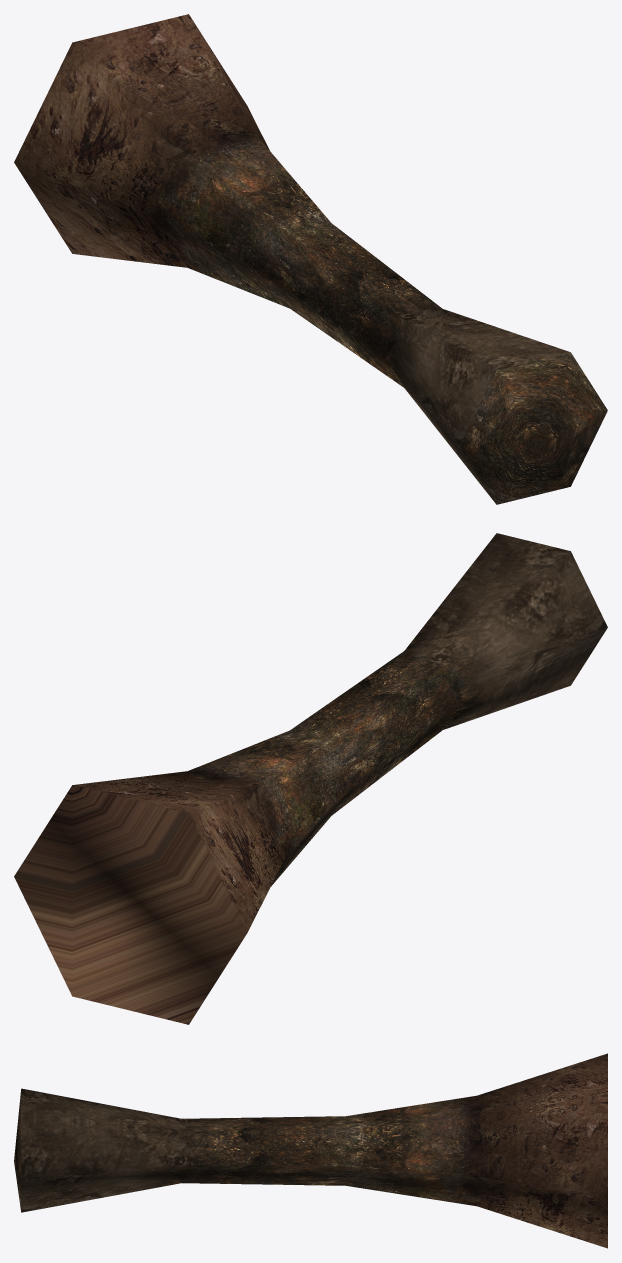
File: rock-pillar_14.obj
3 renders of one model, top to bottom at view 1: azimuth 30°, elevation 25°; view 2: azimuth 150°, elevation 25°; view 3: azimuth 270°, elevation 25°, orthographic. The views are drawn at different scales.
Parts seen in each view (by area): view 1: (null); view 2: (null); view 3: (null).
Part boxes in pixels (x1=…): (null): x1=14, y1=14, x2=607, y2=504; (null): x1=14, y1=533, x2=607, y2=1024; (null): x1=14, y1=1053, x2=607, y2=1248.
Size of the model in its own units: 3.35 by 2.9 by 10.16.
